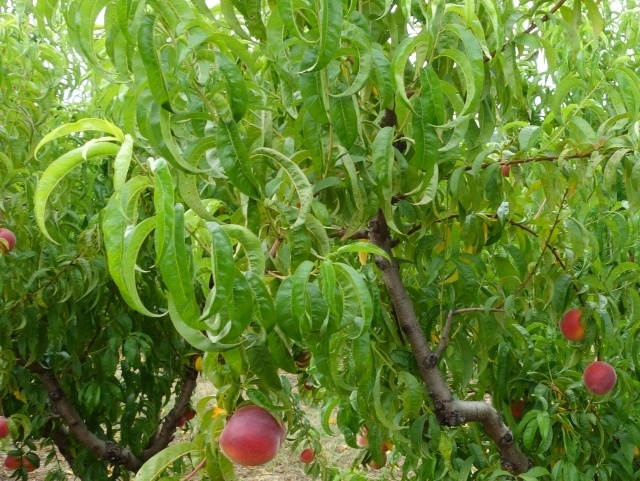peach: (216, 402, 287, 474), (577, 358, 619, 403), (557, 305, 598, 350), (1, 223, 21, 258), (347, 428, 374, 453), (363, 452, 390, 474), (18, 453, 43, 475), (296, 447, 319, 467), (2, 452, 23, 472), (1, 411, 14, 441)
